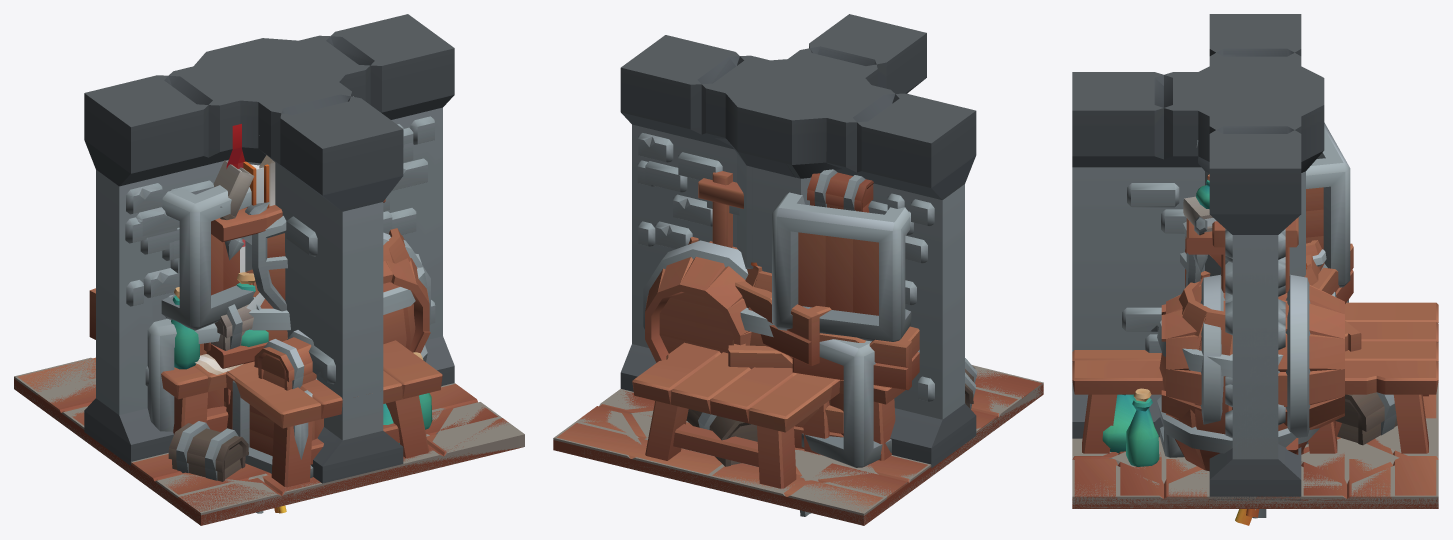
Rendered from tavern.glb.
The picture shows the model from 3 angles, left to right: view 1: azimuth 30°, elevation 25°; view 2: azimuth 150°, elevation 25°; view 3: azimuth 270°, elevation 25°; orthographic projection. The views are drawn at different scales.
Parts seen in each view (by area): view 1: wall_arched, wall_corner, box_stacked, floor_wood_large, floor_tile_large, table_long, keg_decorated, wall, wall_shelves, pillar_decorated, wall_pillar, wall_window_open (+2 smaller); view 2: box_stacked, wall_arched, wall_shelves, table_long, floor_wood_large, keg_decorated, wall_corner, wall_pillar, floor_tile_large, crates_stacked, pillar_decorated, wall_window_open (+4 smaller); view 3: wall_corner, wall_arched, wall, box_stacked, table_long, keg_decorated, floor_wood_large, floor_tile_large, wall_pillar, wall_shelves, crates_stacked, wall_window_open (+3 smaller).
Part boxes in pixels (left/top/right/bottom): wall_arched: left=84, top=14, right=454, bottom=465; wall_corner: left=135, top=78, right=403, bottom=483; box_stacked: left=147, top=185, right=432, bottom=481; floor_wood_large: left=14, top=357, right=522, bottom=525; floor_tile_large: left=14, top=357, right=524, bottom=525; table_long: left=227, top=340, right=442, bottom=487; keg_decorated: left=89, top=232, right=430, bottom=434; wall: left=85, top=46, right=454, bottom=444; wall_shelves: left=140, top=45, right=413, bottom=368; pillar_decorated: left=205, top=39, right=333, bottom=311; wall_pillar: left=137, top=38, right=427, bottom=386; wall_window_open: left=143, top=192, right=416, bottom=351; box_stacked: left=686, top=169, right=977, bottom=467; wall_arched: left=621, top=35, right=976, bottom=468; wall_shelves: left=620, top=56, right=939, bottom=464; table_long: left=632, top=342, right=837, bottom=488; floor_wood_large: left=553, top=370, right=1043, bottom=525; keg_decorated: left=643, top=240, right=919, bottom=460; wall_corner: left=783, top=14, right=942, bottom=426; wall_pillar: left=645, top=59, right=927, bottom=352; floor_tile_large: left=553, top=365, right=1043, bottom=525; crates_stacked: left=728, top=262, right=843, bottom=448; pillar_decorated: left=737, top=64, right=860, bottom=273; wall_window_open: left=655, top=171, right=916, bottom=305; wall_corner: left=1072, top=48, right=1287, bottom=438; wall_arched: left=1209, top=14, right=1301, bottom=496; wall: left=1209, top=116, right=1301, bottom=500; box_stacked: left=1102, top=122, right=1397, bottom=471; table_long: left=1072, top=302, right=1438, bottom=453; keg_decorated: left=1161, top=274, right=1344, bottom=454; floor_wood_large: left=1072, top=394, right=1438, bottom=508; floor_tile_large: left=1072, top=342, right=1438, bottom=508; wall_pillar: left=1190, top=66, right=1324, bottom=500; wall_shelves: left=1183, top=49, right=1301, bottom=500; crates_stacked: left=1160, top=240, right=1361, bottom=457; wall_window_open: left=1212, top=217, right=1298, bottom=335.
Bounding box in the file's own units: 4 × 5.2 × 4.
Materials: 3 (3 with a texture image).
